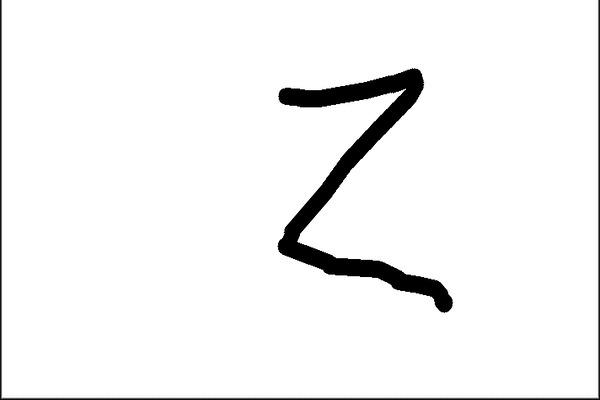Z: (270, 61, 463, 316)
